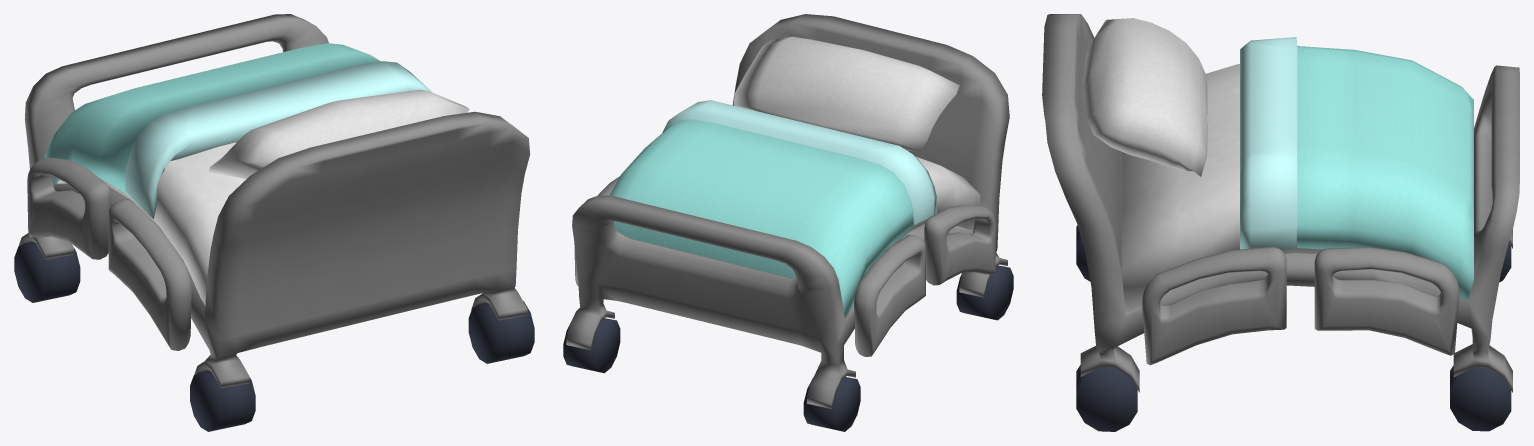
File: Bed_Empty.glb
3 renders of one model, left to right at view 1: azimuth 30°, elevation 25°; view 2: azimuth 150°, elevation 25°; view 3: azimuth 270°, elevation 25°, orthographic. The views are drawn at different scales.
Parts seen in each view (by area): view 1: Blanket.006; view 2: Blanket.006; view 3: Blanket.006.
Boxes of the visible parts, x1=… form: Blanket.006: x1=14, y1=14, x2=534, y2=431; Blanket.006: x1=563, y1=14, x2=1013, y2=431; Blanket.006: x1=1042, y1=14, x2=1519, y2=431.
Bounding box in the file's own units: 1.29 × 1 × 1.46.
Materials: 1 (1 with a texture image).
